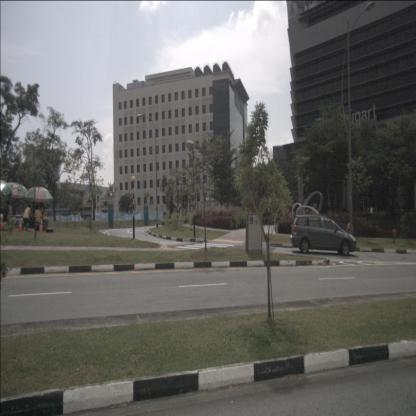cone: (38, 218, 44, 233), (19, 216, 23, 233)
